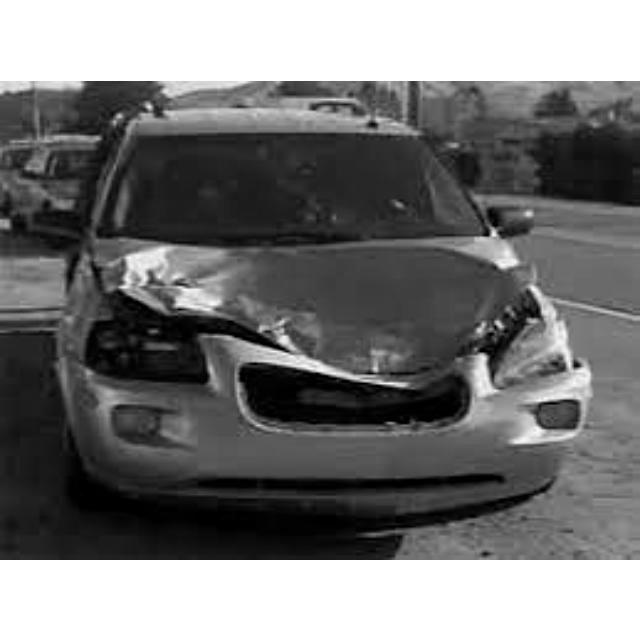Headlight-damage: (478, 296, 591, 397)
bonnet-dent: (88, 232, 490, 377)
